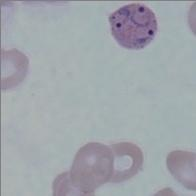Infected: (107, 3, 157, 50)
Uninfected: (72, 142, 115, 190), (102, 142, 143, 184)
